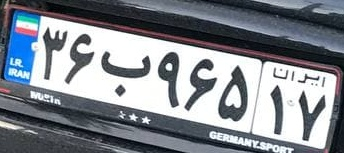character: (99, 47, 157, 99), (217, 63, 255, 125), (181, 55, 218, 115), (65, 29, 97, 90), (39, 22, 69, 87), (155, 46, 183, 108), (296, 89, 326, 142), (264, 84, 293, 136)
